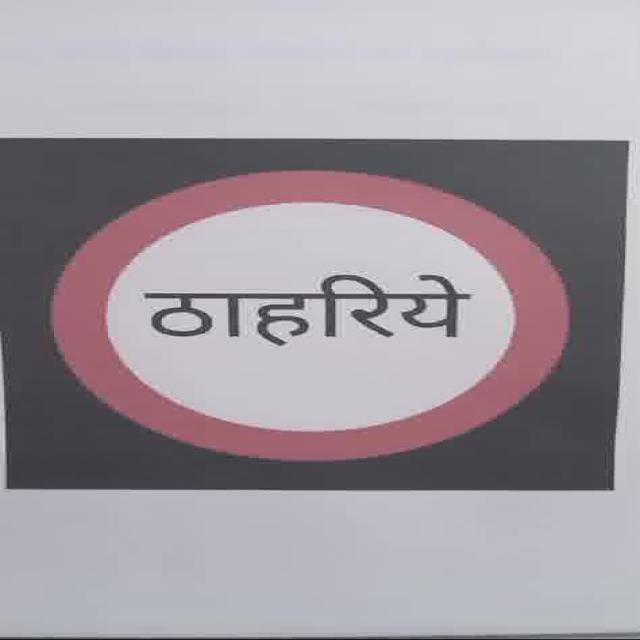hindistop: (2, 138, 626, 488), (139, 271, 474, 346)
